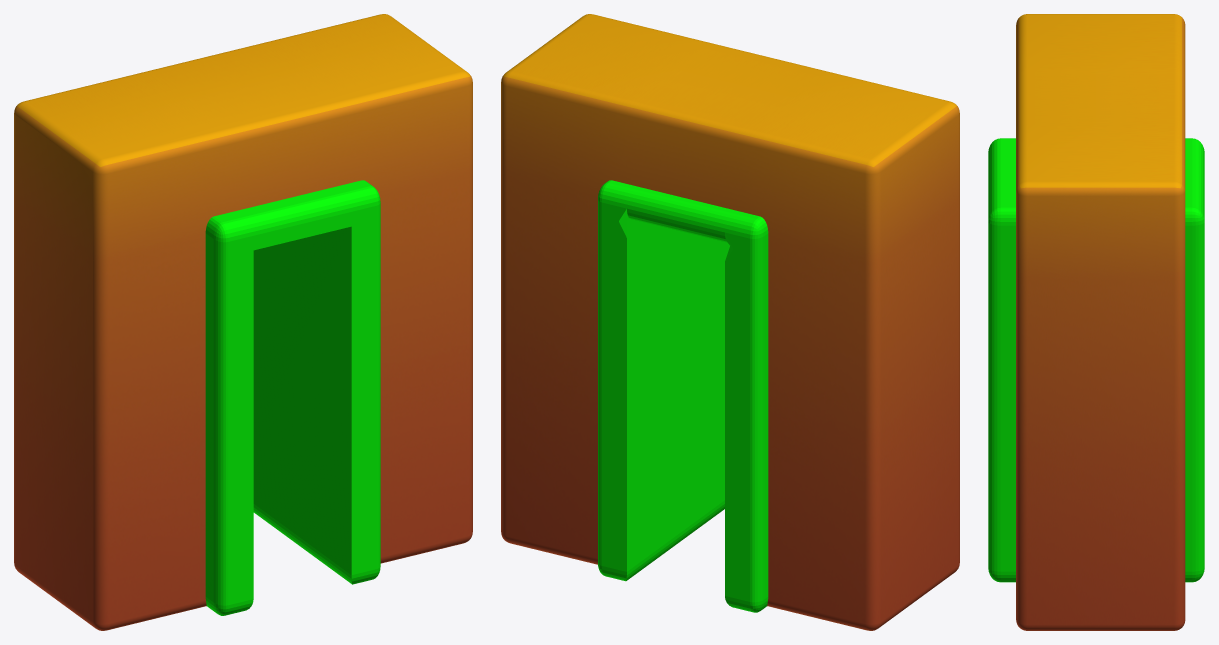
The model's file is Door.fbx.
The picture shows the model from 3 angles, left to right: view 1: azimuth 30°, elevation 25°; view 2: azimuth 150°, elevation 25°; view 3: azimuth 270°, elevation 25°; orthographic projection. The views are drawn at different scales.
Visible parts, largest first — view 1: Cube, Cube.001; view 2: Cube, Cube.001; view 3: Cube, Cube.001.
Boxes of the visible parts, x1,y1,x2,y2 form: Cube: [14, 14, 472, 630]; Cube.001: [205, 180, 380, 615]; Cube: [501, 14, 959, 630]; Cube.001: [598, 180, 768, 612]; Cube: [1016, 14, 1185, 630]; Cube.001: [988, 138, 1204, 582].
Size of the model in its own units: 157 by 187 by 81.57.
